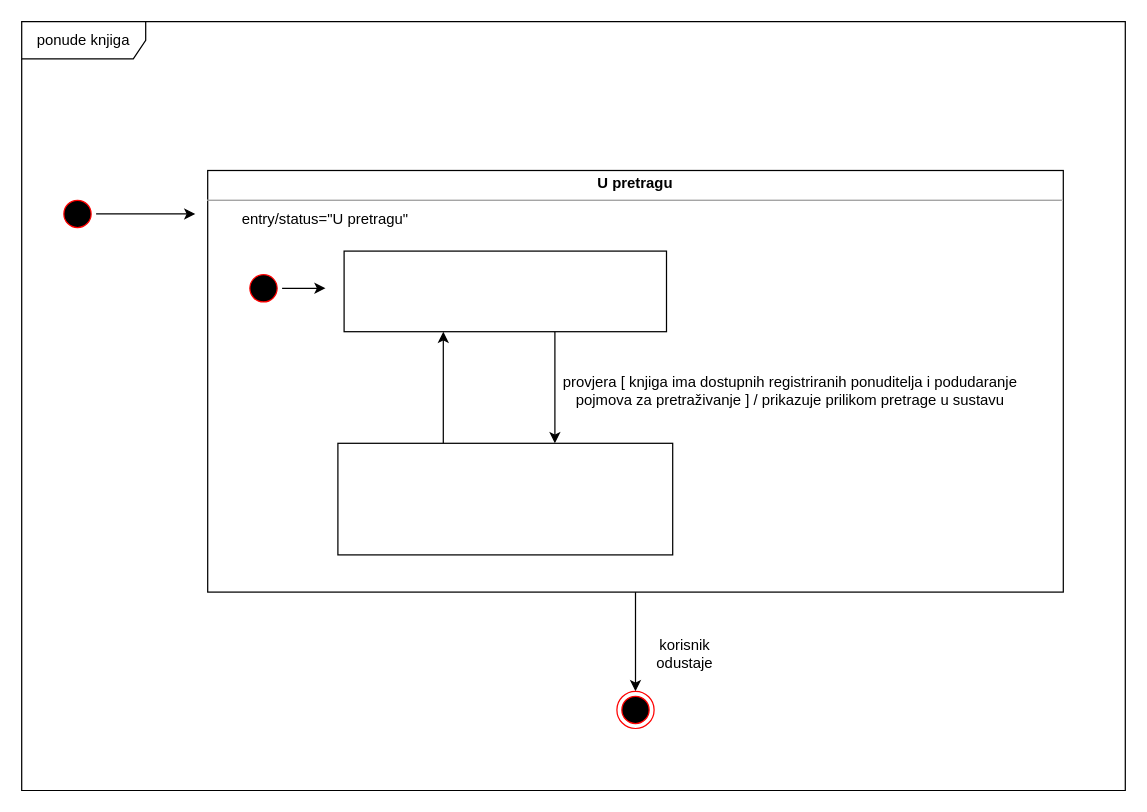
This 1147x812 diagram has some shape labels left out. Here are the shapes that lost their labels. From the top down, the box of each, then its label:
(343, 250, 666, 332): Započeta do/ unos značajke knjige i nazivu ponuditelja
(337, 442, 673, 555): Rezultat do/ prikaz sve knjige koje se pretražuje
